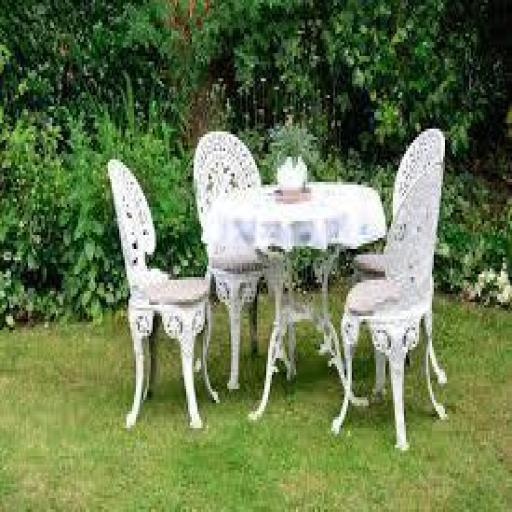chair: (334, 126, 468, 464), (106, 156, 224, 444)
